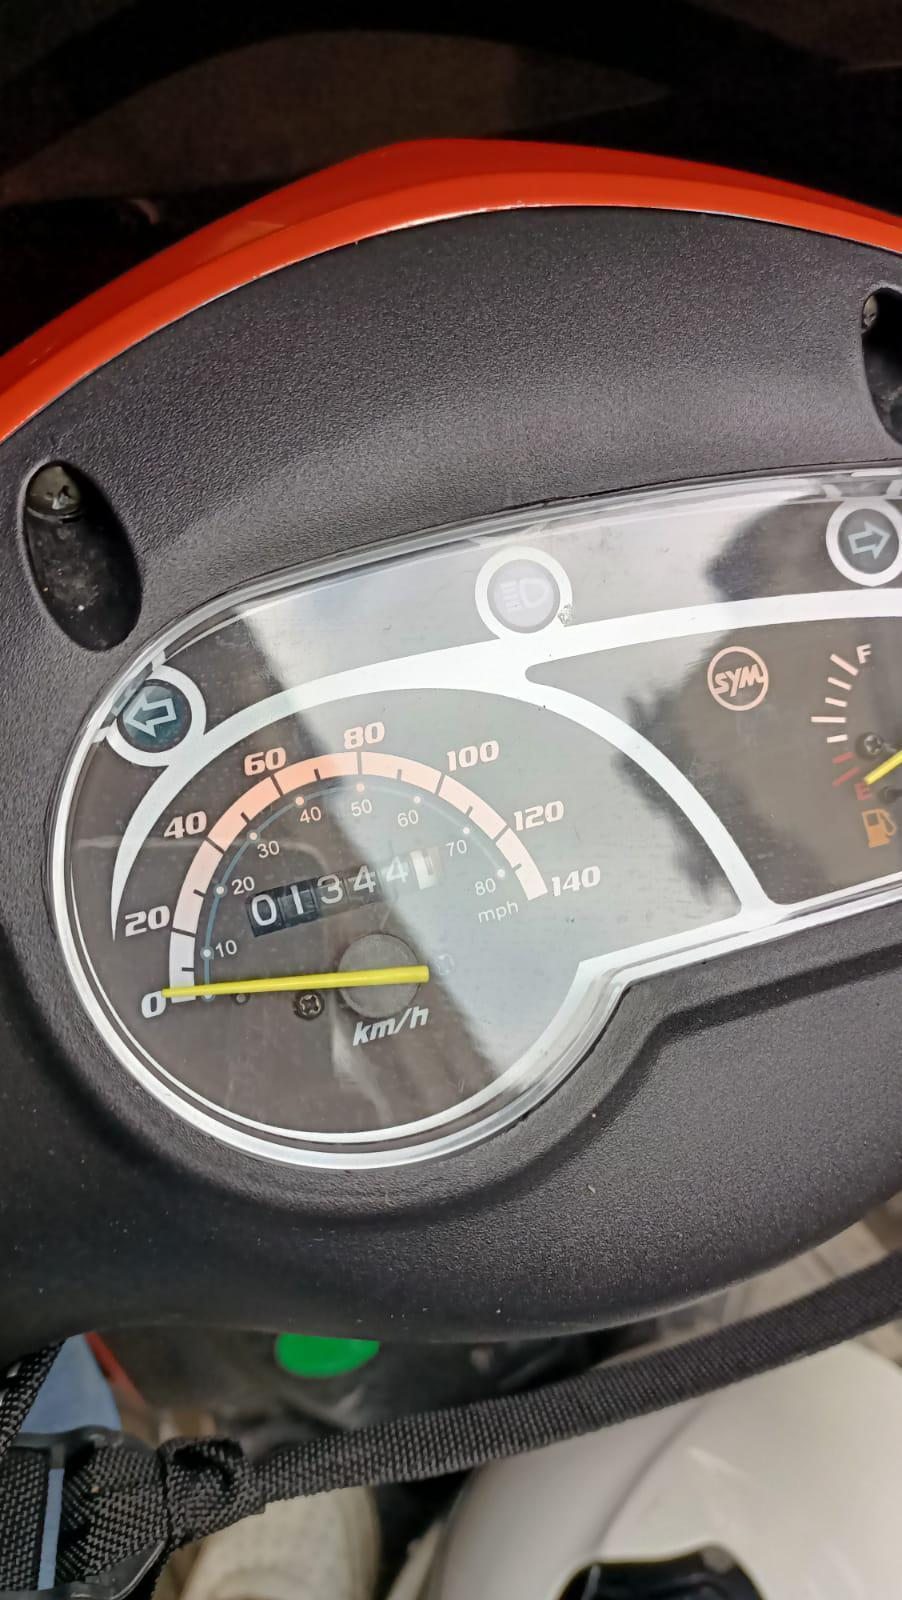0: (249, 891, 278, 927), (242, 875, 254, 891), (268, 842, 280, 856)
1: (416, 845, 439, 878), (286, 881, 307, 918)
3: (314, 871, 344, 905), (256, 843, 268, 858)
4: (350, 860, 377, 895), (383, 853, 409, 885)
odometer: (242, 842, 447, 940)
